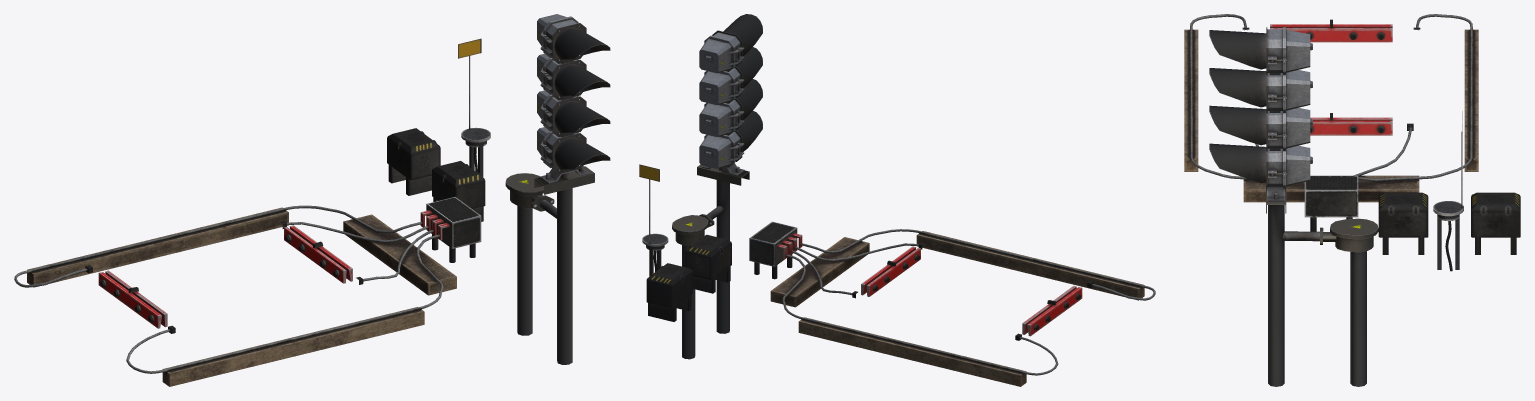
The model's file is RM_sig_P_KM1_4_exit.gltf.
3 renders of one model, left to right at view 1: azimuth 30°, elevation 25°; view 2: azimuth 150°, elevation 25°; view 3: azimuth 270°, elevation 25°, orthographic. The views are drawn at different scales.
Visible parts, largest first — view 1: Изостык, Box002, Cylinder001; view 2: Изостык, Box002, Cylinder001; view 3: Изостык, Box002, Cylinder001.
Boxes of the visible parts, x1,y1,x2,y2 form: Изостык: (14,38,490,386); Box002: (537,14,610,183); Cylinder001: (505,166,594,364); Изостык: (639,164,1155,386); Box002: (699,14,762,175); Cylinder001: (672,164,749,359); Изостык: (1184,14,1520,271); Box002: (1209,27,1312,201); Cylinder001: (1266,182,1378,386).
Size of the model in its own units: 4.21 by 2.8 by 2.43.
Materials: 2 (2 with a texture image).
